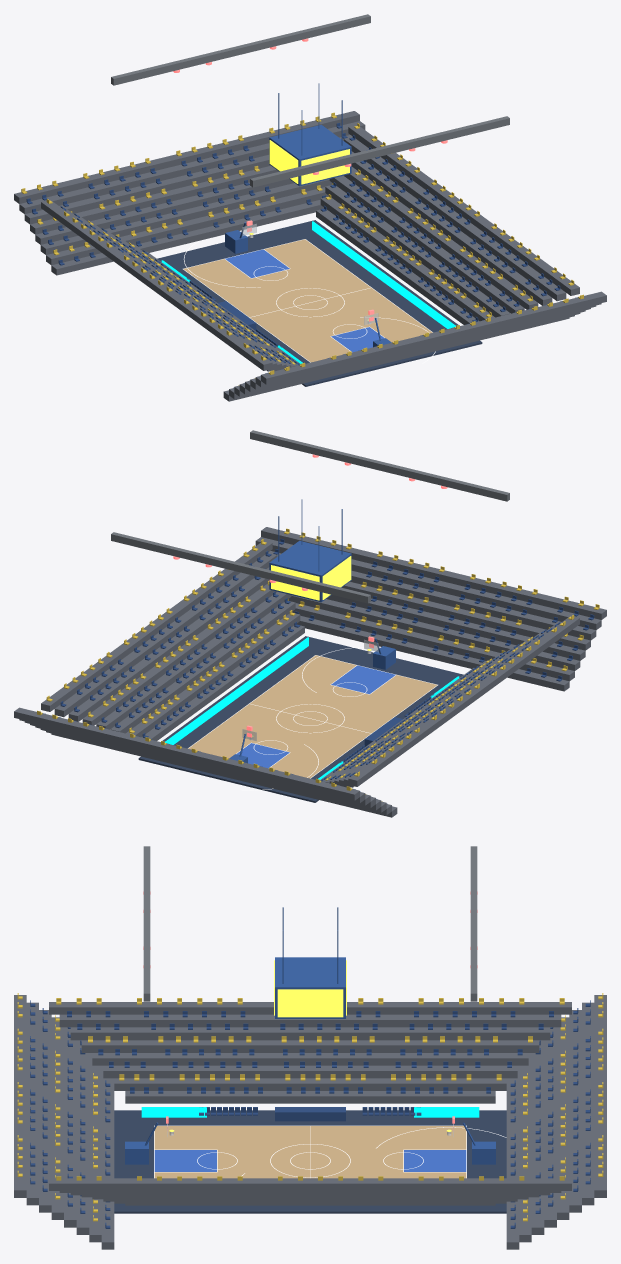
File: dynamic_field_basketball.glb
3 renders of one model, top to bottom at view 1: azimuth 30°, elevation 25°; view 2: azimuth 150°, elevation 25°; view 3: azimuth 270°, elevation 25°, orthographic. The views are drawn at different scales.
Parts seen in each view (by area): view 1: Arena_Stands_Concrete, Court_Hardwood, Arena_Seats_Navy, Court_Apron, Arena_RoofGirders, Arena_Seats_Gold, Jumbotron_Housing, Court_PaintKey, Arena_LED_Ribbons, Jumbotron_Screens, Court_ChalkLines, Hoop_StanchionBases; view 2: Arena_Stands_Concrete, Court_Hardwood, Arena_Seats_Navy, Court_Apron, Arena_RoofGirders, Arena_Seats_Gold, Jumbotron_Housing, Court_PaintKey, Arena_LED_Ribbons, Jumbotron_Screens, Court_ChalkLines, Hoop_StanchionBases; view 3: Arena_Stands_Concrete, Court_Hardwood, Court_Apron, Arena_Seats_Navy, Arena_Seats_Gold, Jumbotron_Housing, Court_PaintKey, Arena_RoofGirders, Jumbotron_Screens, Courtside_Benches, Arena_LED_Ribbons, Court_ChalkLines (+1 smaller).
Boxes of the visible parts, x1=… form: Arena_Stands_Concrete: x1=14, y1=111, x2=606, y2=401; Court_Hardwood: x1=183, y1=239, x2=432, y2=362; Arena_Seats_Navy: x1=26, y1=123, x2=577, y2=387; Court_Apron: x1=157, y1=220, x2=482, y2=386; Arena_RoofGirders: x1=111, y1=14, x2=509, y2=187; Arena_Seats_Gold: x1=21, y1=112, x2=583, y2=385; Jumbotron_Housing: x1=269, y1=83, x2=351, y2=186; Court_PaintKey: x1=225, y1=249, x2=384, y2=352; Arena_LED_Ribbons: x1=161, y1=221, x2=455, y2=363; Jumbotron_Screens: x1=269, y1=140, x2=349, y2=184; Court_ChalkLines: x1=183, y1=239, x2=435, y2=363; Hoop_StanchionBases: x1=225, y1=222, x2=391, y2=346; Arena_Stands_Concrete: x1=14, y1=527, x2=606, y2=817; Court_Hardwood: x1=188, y1=655, x2=437, y2=778; Arena_Seats_Navy: x1=43, y1=539, x2=594, y2=803; Court_Apron: x1=138, y1=636, x2=463, y2=802; Arena_RoofGirders: x1=111, y1=430, x2=509, y2=603; Arena_Seats_Gold: x1=37, y1=528, x2=599, y2=801; Jumbotron_Housing: x1=269, y1=499, x2=351, y2=602; Court_PaintKey: x1=236, y1=665, x2=395, y2=768; Arena_LED_Ribbons: x1=165, y1=637, x2=459, y2=779; Jumbotron_Screens: x1=271, y1=556, x2=351, y2=600; Court_ChalkLines: x1=188, y1=647, x2=437, y2=790; Hoop_StanchionBases: x1=229, y1=638, x2=395, y2=762; Arena_Stands_Concrete: x1=14, y1=995, x2=606, y2=1249; Court_Hardwood: x1=154, y1=1126, x2=466, y2=1178; Court_Apron: x1=114, y1=1110, x2=506, y2=1213; Arena_Seats_Navy: x1=30, y1=1000, x2=590, y2=1228; Arena_Seats_Gold: x1=17, y1=993, x2=603, y2=1221; Jumbotron_Housing: x1=275, y1=907, x2=345, y2=1018; Court_PaintKey: x1=154, y1=1150, x2=466, y2=1171; Arena_RoofGirders: x1=143, y1=846, x2=477, y2=1001; Jumbotron_Screens: x1=274, y1=960, x2=346, y2=1017; Courtside_Benches: x1=199, y1=1107, x2=421, y2=1121; Arena_LED_Ribbons: x1=141, y1=1107, x2=479, y2=1117; Court_ChalkLines: x1=154, y1=1125, x2=506, y2=1178.
Bounding box in the file's own units: 42.4 × 24.7 × 54.4.
